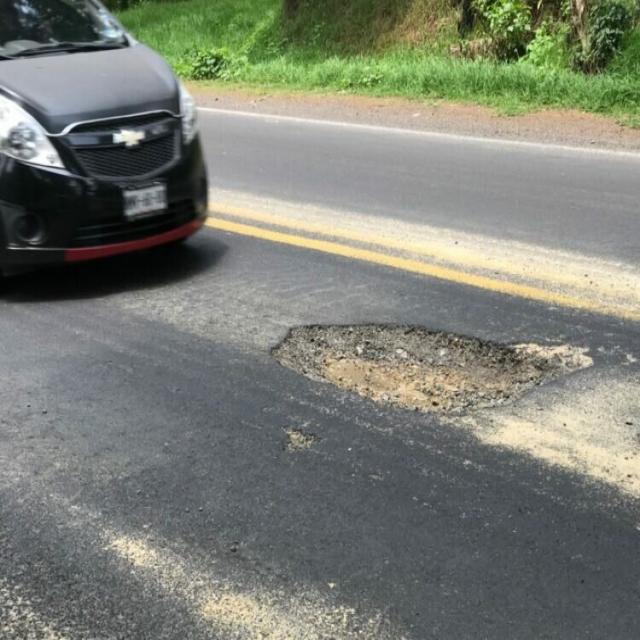Pothole: (266, 290, 596, 501)
